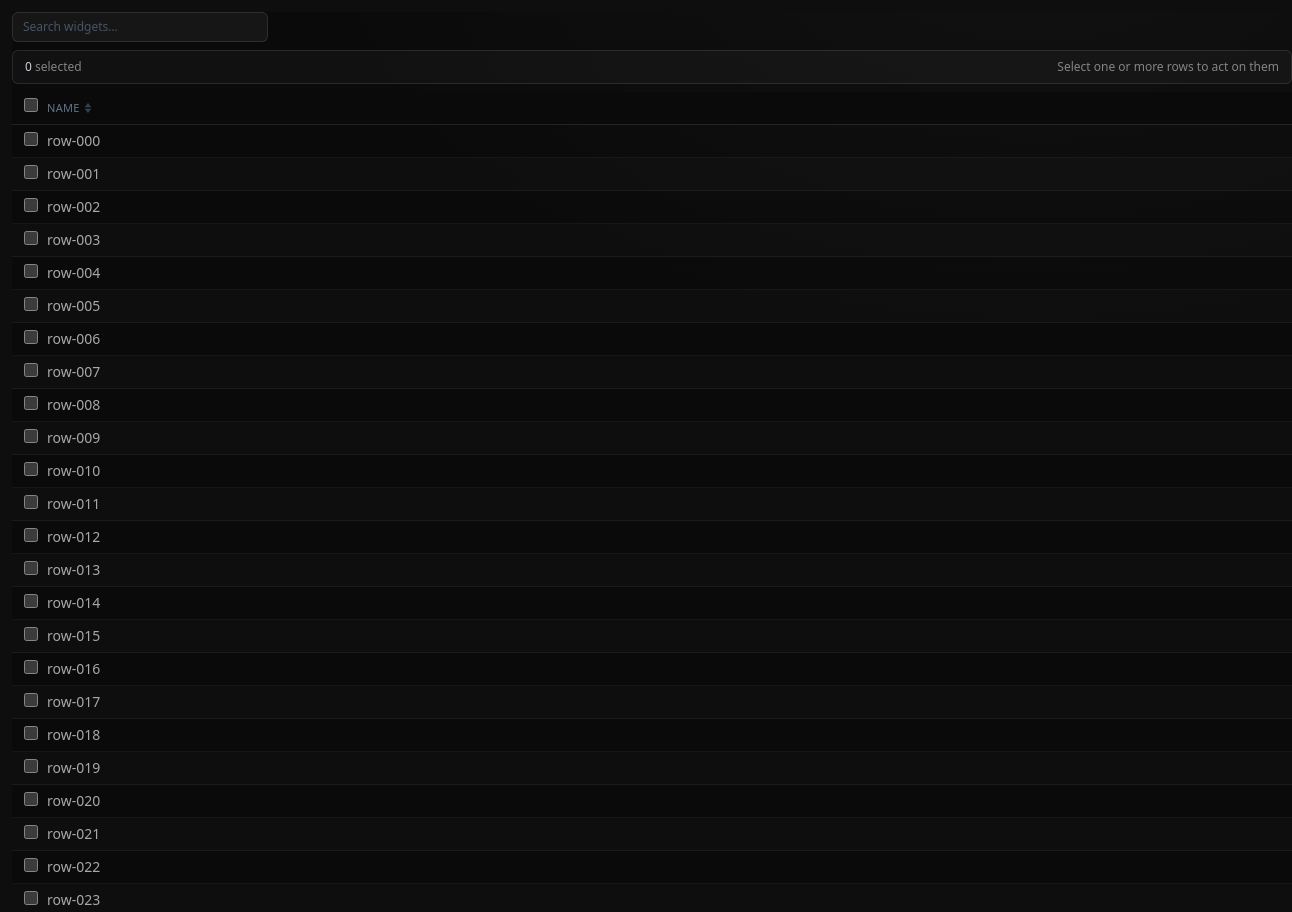
Test: DataTable, selection › ⚠ …AND SELECTING EVERYTHING IS STILL POSSIBLE, BY A CONTROL THAT SAYS THE NUMBER
Click the checkbox named "Select all 25 on this page" at (31, 105), box [24,98,38,112]
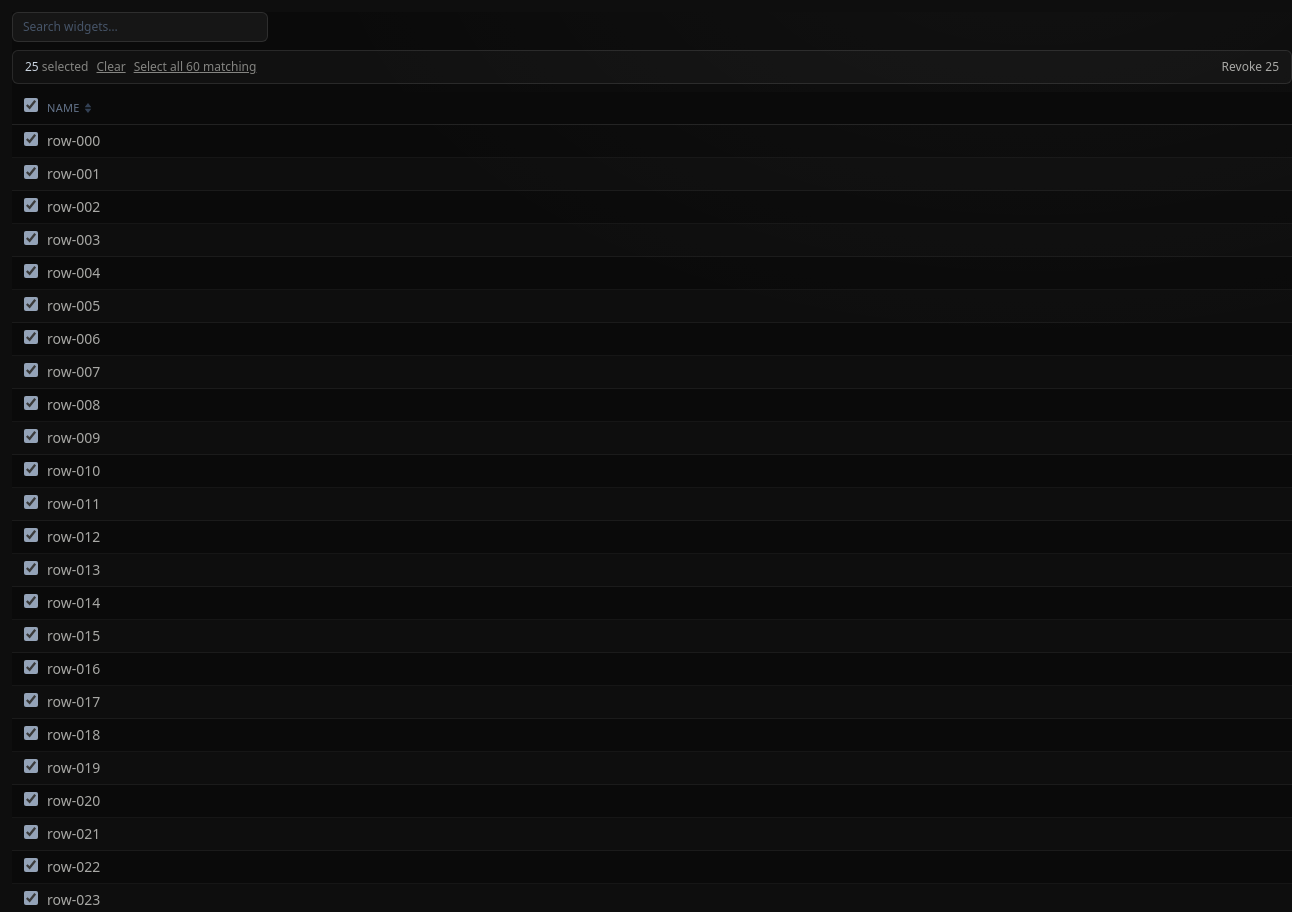
Click the button "Select all 60 matching" at (195, 67), box [134,59,256,75]
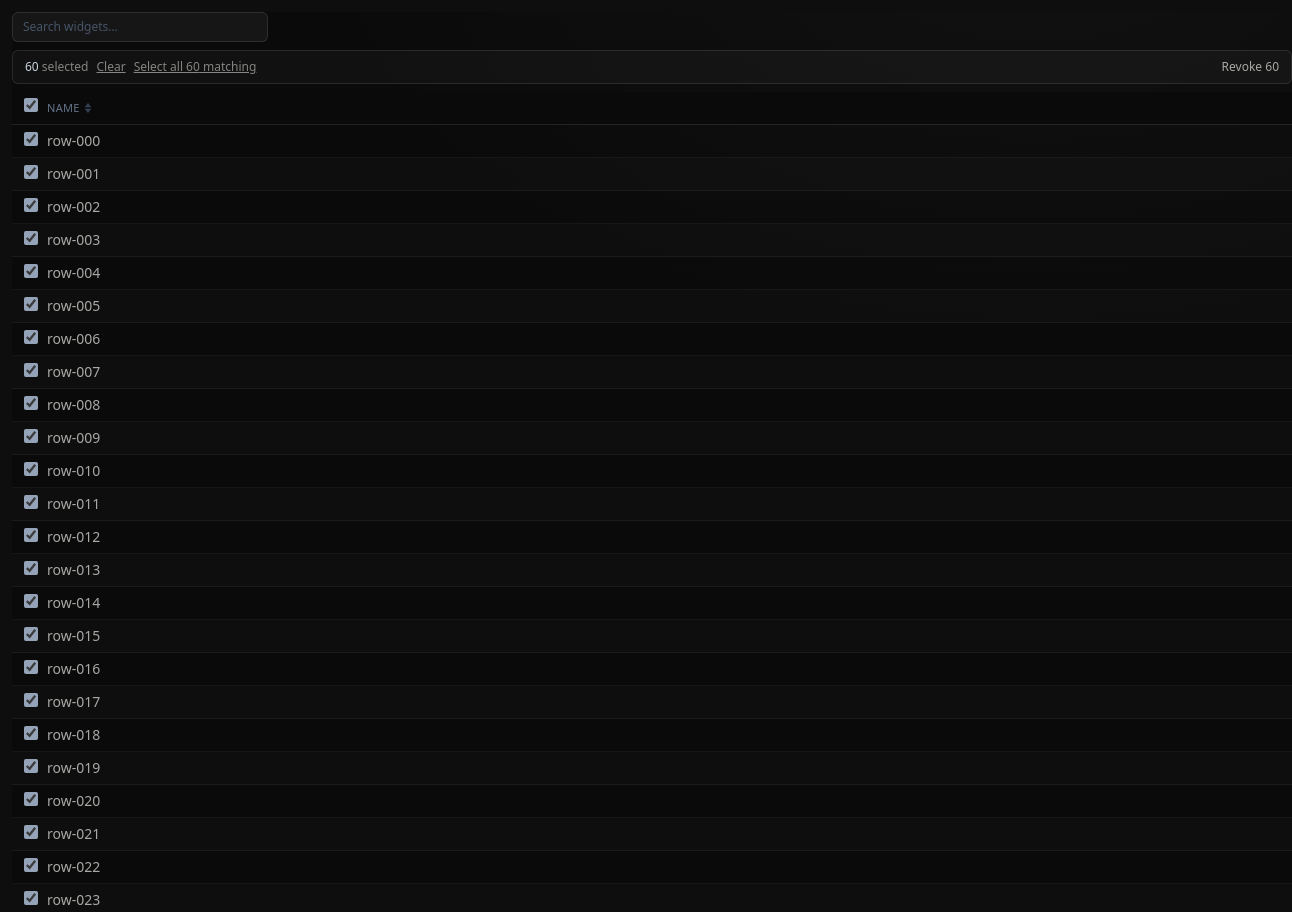
Expected: the text "selected" shows "60 selected", [25,59,256,75]
